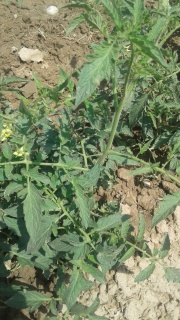tomato flower: (1, 142, 38, 164), (1, 118, 18, 142)
tomato plant: (64, 1, 175, 162), (1, 159, 108, 313)
